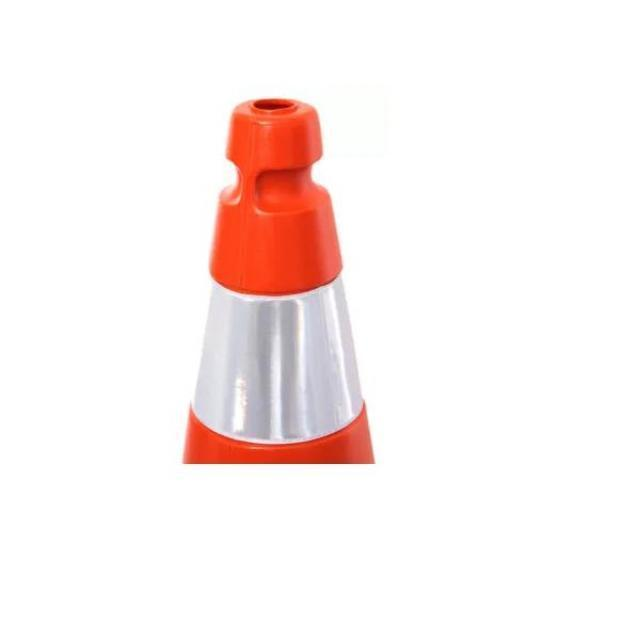traffic cone: (180, 98, 379, 465)
